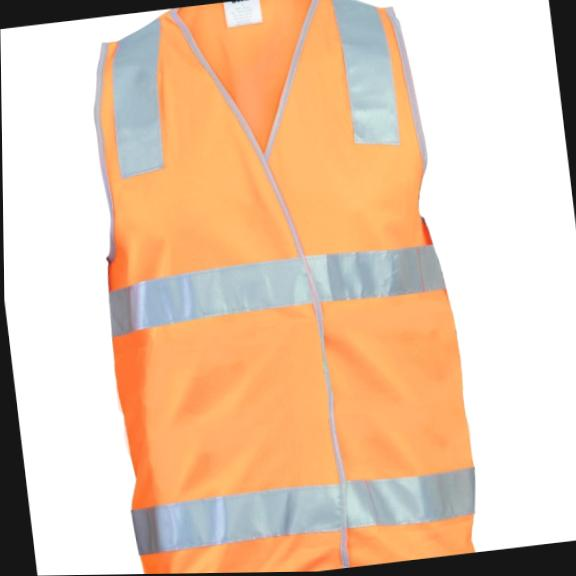safety_vest: (70, 0, 488, 575)
